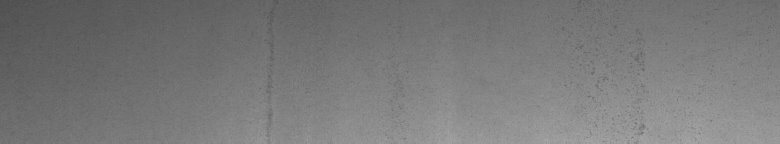ib: (585, 52, 648, 136)
